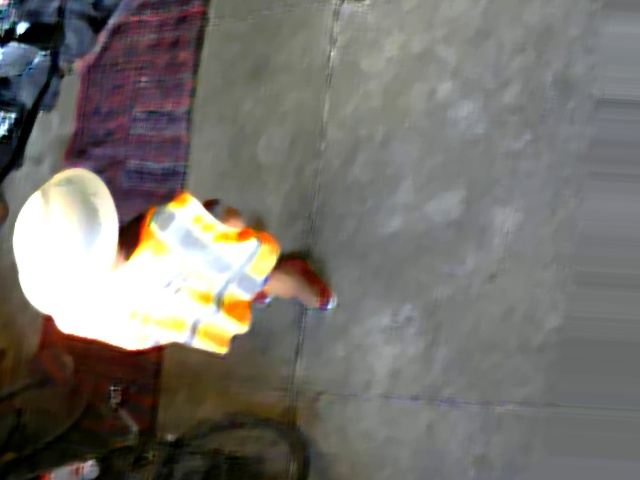eight: (16, 261, 65, 302)
